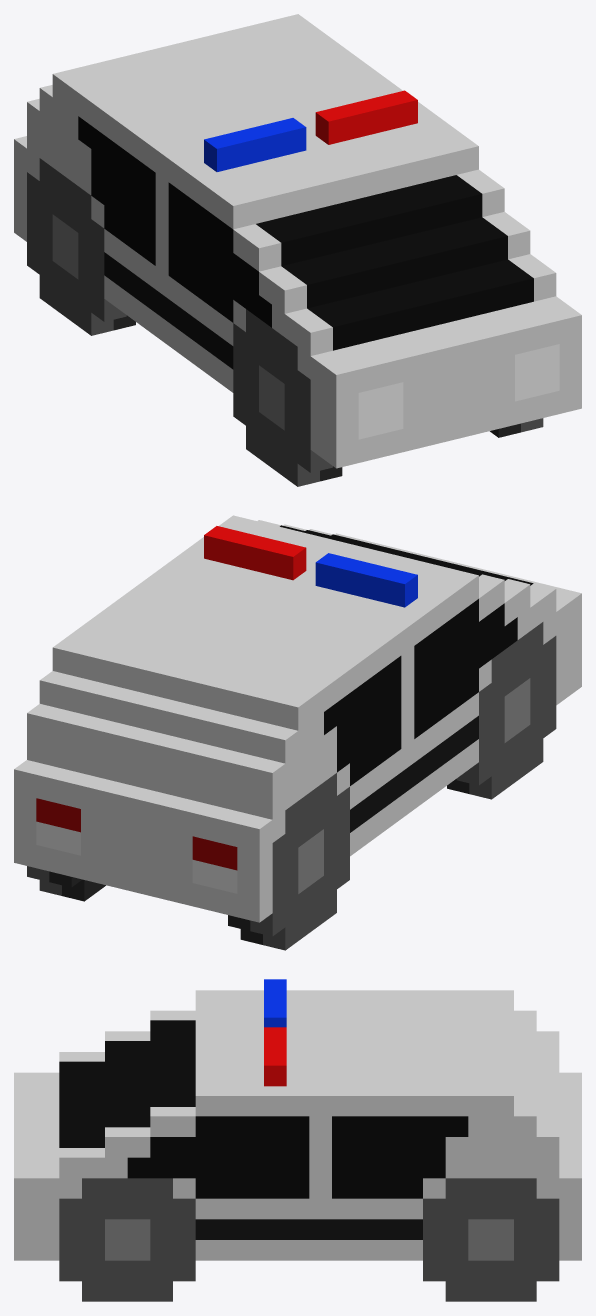
File: police_alt_2.obj
3 views of the same model, one above another, from view 1: azimuth 30°, elevation 25°; view 2: azimuth 150°, elevation 25°; view 3: azimuth 270°, elevation 25° (orthographic). The views are drawn at different scales.
Parts seen in each view (by area): view 1: police_alt_2; view 2: police_alt_2; view 3: police_alt_2.
Part boxes in pixels (left/top/right/bottom): police_alt_2: left=14, top=14, right=581, bottom=486; police_alt_2: left=14, top=515, right=581, bottom=950; police_alt_2: left=14, top=979, right=581, bottom=1301.
Bounding box in the file's own units: 11 × 11 × 25.
Materials: 1 (1 with a texture image).
